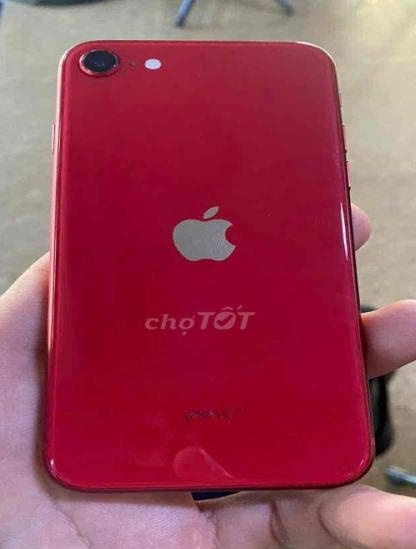scratch: (73, 40, 126, 72), (335, 198, 352, 264), (329, 453, 366, 478), (41, 454, 67, 481)
